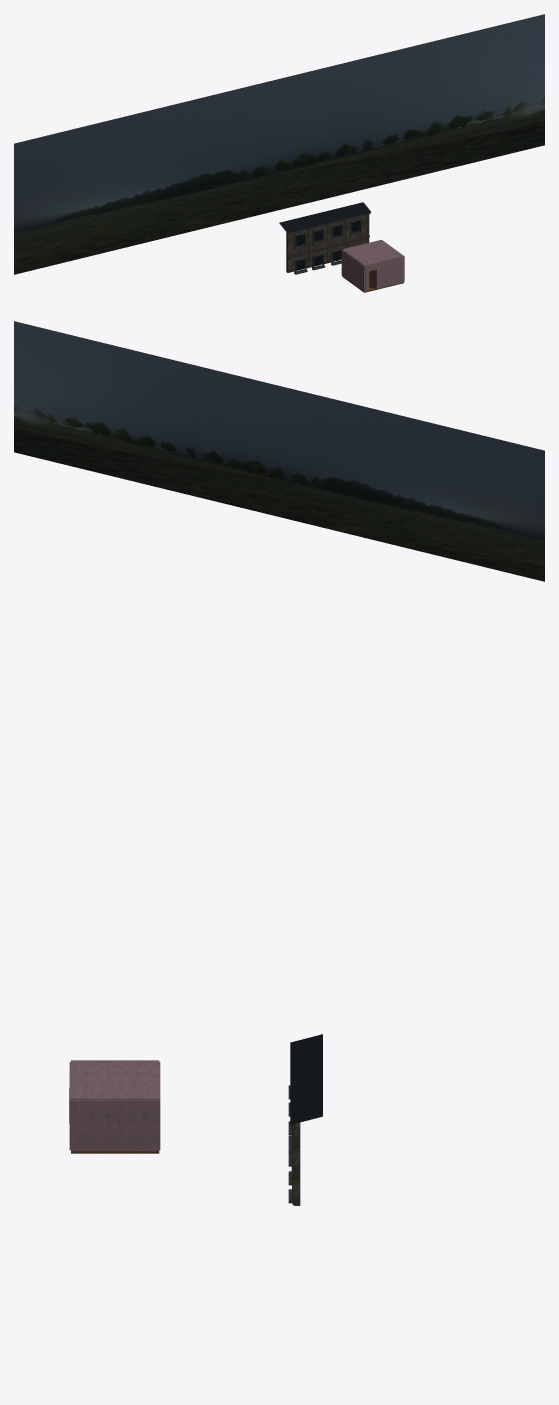
The model's file is office-room.glb.
3 renders of one model, top to bottom at view 1: azimuth 30°, elevation 25°; view 2: azimuth 150°, elevation 25°; view 3: azimuth 270°, elevation 25°, orthographic. The views are drawn at different scales.
Parts seen in each view (by area): view 1: OFFICE_DETAIL_night_batch_07_NIGHT_BACKDROP, OFFICE_architecture__static, OFFICE_DETAIL_night_batch_02_NIGHT_FACADE_PBR, OFFICE_DETAIL_night_batch_01_NIGHT_FACADE_湿旧石檐, OFFICE_DETAIL_night_batch_03_NIGHT_FACADE_湿旧石板屋面, OFFICE_DETAIL_night_batch_00_NIGHT_FACADE_停电暗窗, OFFICE_DETAIL_night_batch_04_NIGHT_FACADE_风化暗窗框; view 2: OFFICE_DETAIL_night_batch_07_NIGHT_BACKDROP; view 3: OFFICE_architecture__static, OFFICE_DETAIL_night_batch_03_NIGHT_FACADE_湿旧石板屋面.
Part boxes in pixels (x1=…): OFFICE_DETAIL_night_batch_07_NIGHT_BACKDROP: x1=14, y1=14, x2=544, y2=274; OFFICE_architecture__static: x1=341, y1=239, x2=404, y2=292; OFFICE_DETAIL_night_batch_02_NIGHT_FACADE_PBR: x1=286, y1=214, x2=369, y2=272; OFFICE_DETAIL_night_batch_01_NIGHT_FACADE_湿旧石檐: x1=286, y1=212, x2=370, y2=274; OFFICE_DETAIL_night_batch_03_NIGHT_FACADE_湿旧石板屋面: x1=279, y1=202, x2=371, y2=232; OFFICE_DETAIL_night_batch_00_NIGHT_FACADE_停电暗窗: x1=296, y1=221, x2=359, y2=270; OFFICE_DETAIL_night_batch_04_NIGHT_FACADE_风化暗窗框: x1=296, y1=221, x2=360, y2=271; OFFICE_DETAIL_night_batch_07_NIGHT_BACKDROP: x1=14, y1=321, x2=544, y2=581; OFFICE_architecture__static: x1=69, y1=1060, x2=160, y2=1153; OFFICE_DETAIL_night_batch_03_NIGHT_FACADE_湿旧石板屋面: x1=290, y1=1034, x2=322, y2=1124.
Size of the model in its own units: 72 by 19.55 by 24.7.
Materials: 40 (20 with a texture image).
